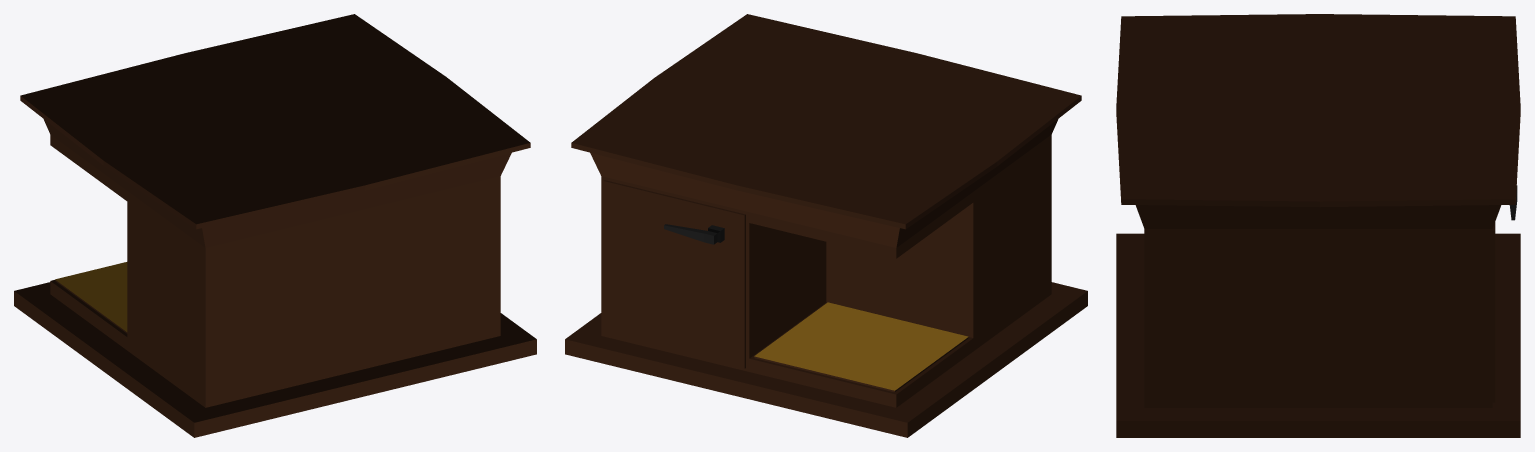
File: Desk 7.fbx
3 renders of one model, left to right at view 1: azimuth 30°, elevation 25°; view 2: azimuth 150°, elevation 25°; view 3: azimuth 270°, elevation 25°, orthographic. The views are drawn at different scales.
Parts seen in each view (by area): view 1: Node 0; view 2: Node 0, Node 1; view 3: Node 0, Node 1.
Boxes of the visible parts, x1,y1,x2,y2 form: Node 0: (14, 14, 536, 437); Node 0: (565, 14, 1087, 437); Node 1: (603, 180, 745, 368); Node 0: (1116, 14, 1520, 437); Node 1: (1492, 185, 1517, 402).
Bounding box in the file's own units: 1.51 × 0.9756 × 1.66.
